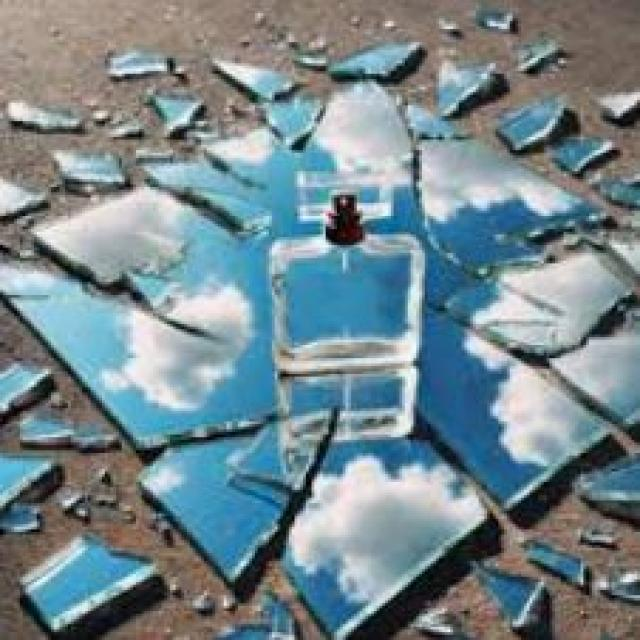electronic: (272, 172, 424, 380)
